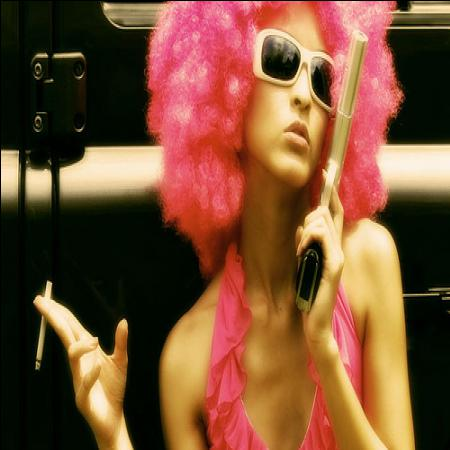Pistol: (294, 26, 368, 308)
